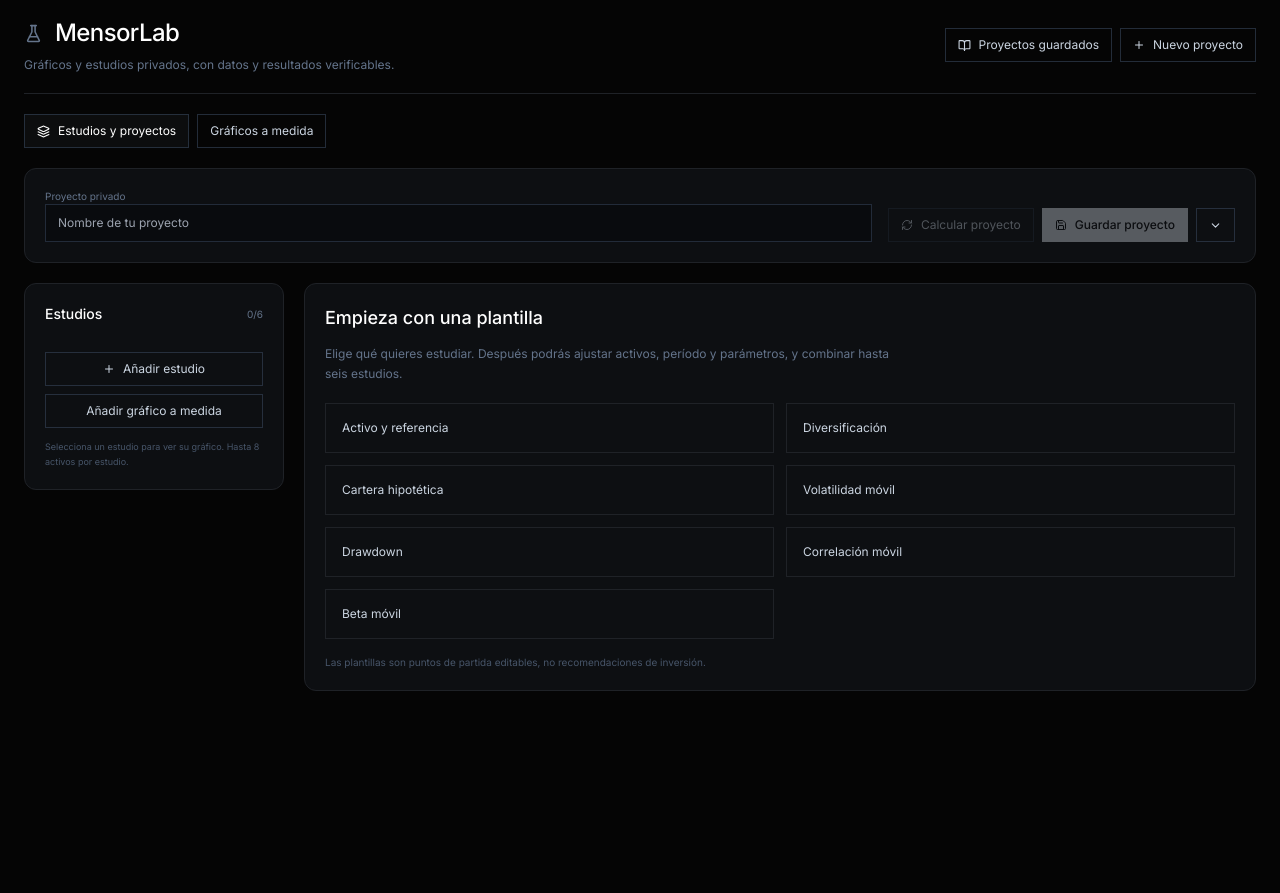
Scenario: keeps hypothetical percentages explicit and refuses invalid totals without normalization
Click the button "Cartera hipotética". click: click(393, 490)
box: [325, 465, 774, 515]
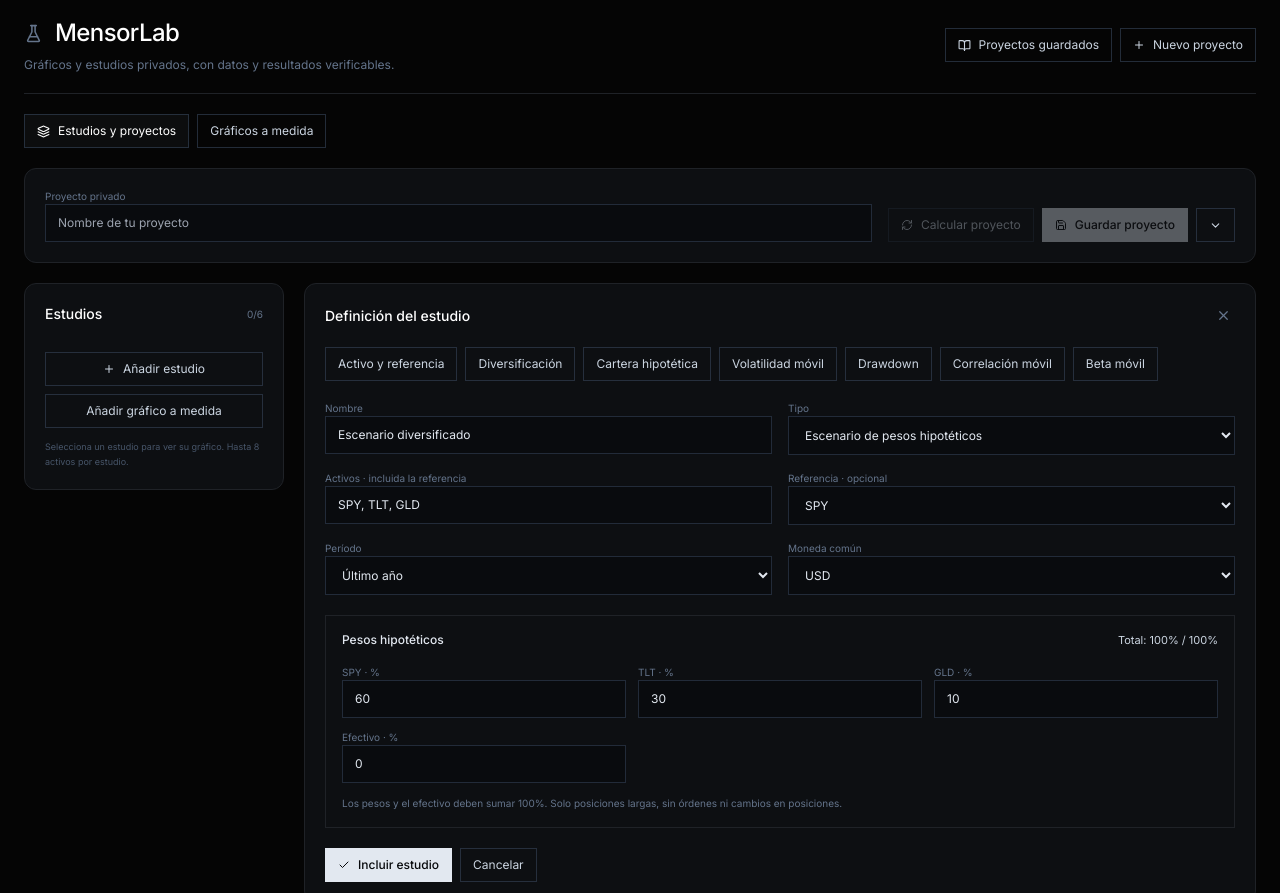
Replace the text in the number field named "Peso de SPY" with "50". click: (484, 698)
box: [342, 680, 626, 718]
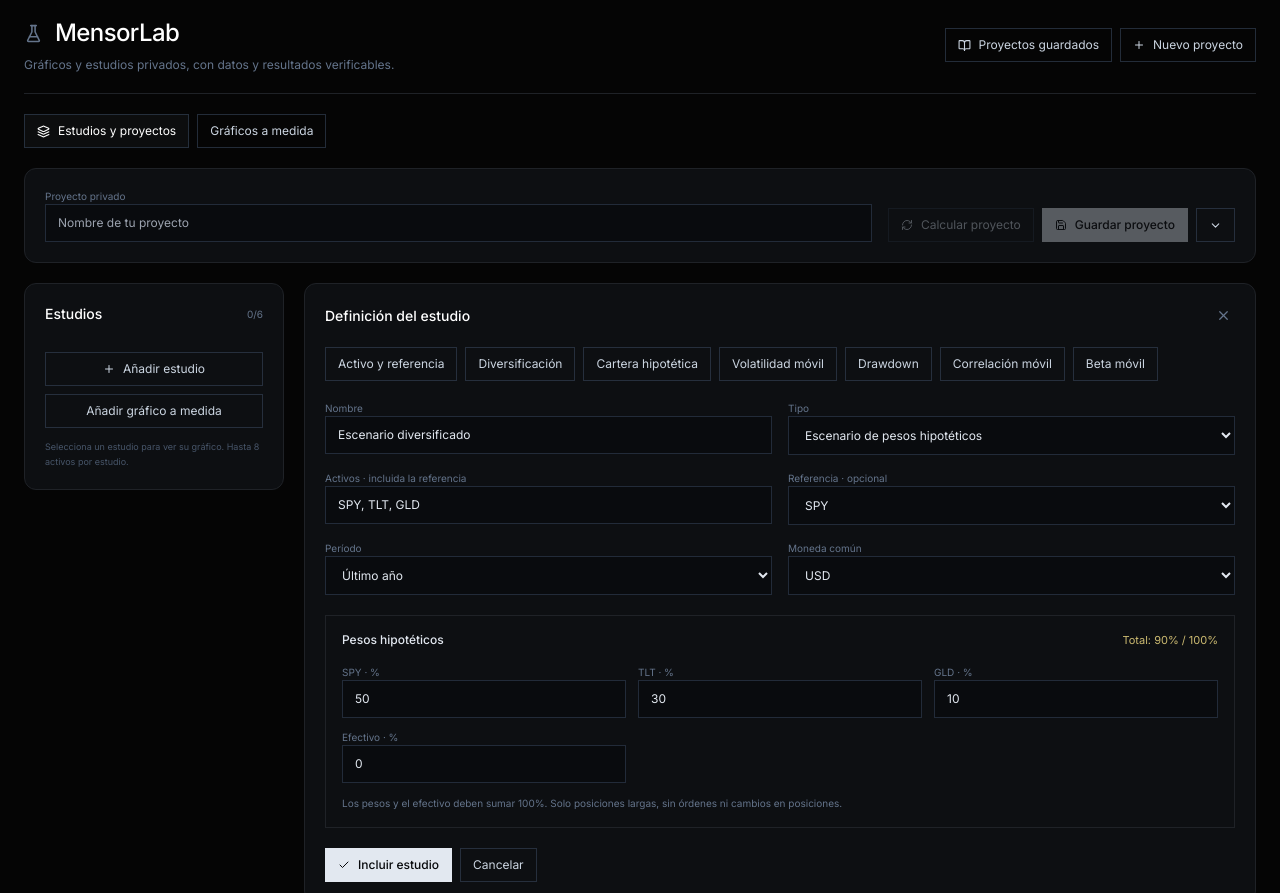
Click the button "Incluir estudio". click: click(388, 865)
box: [325, 848, 452, 882]
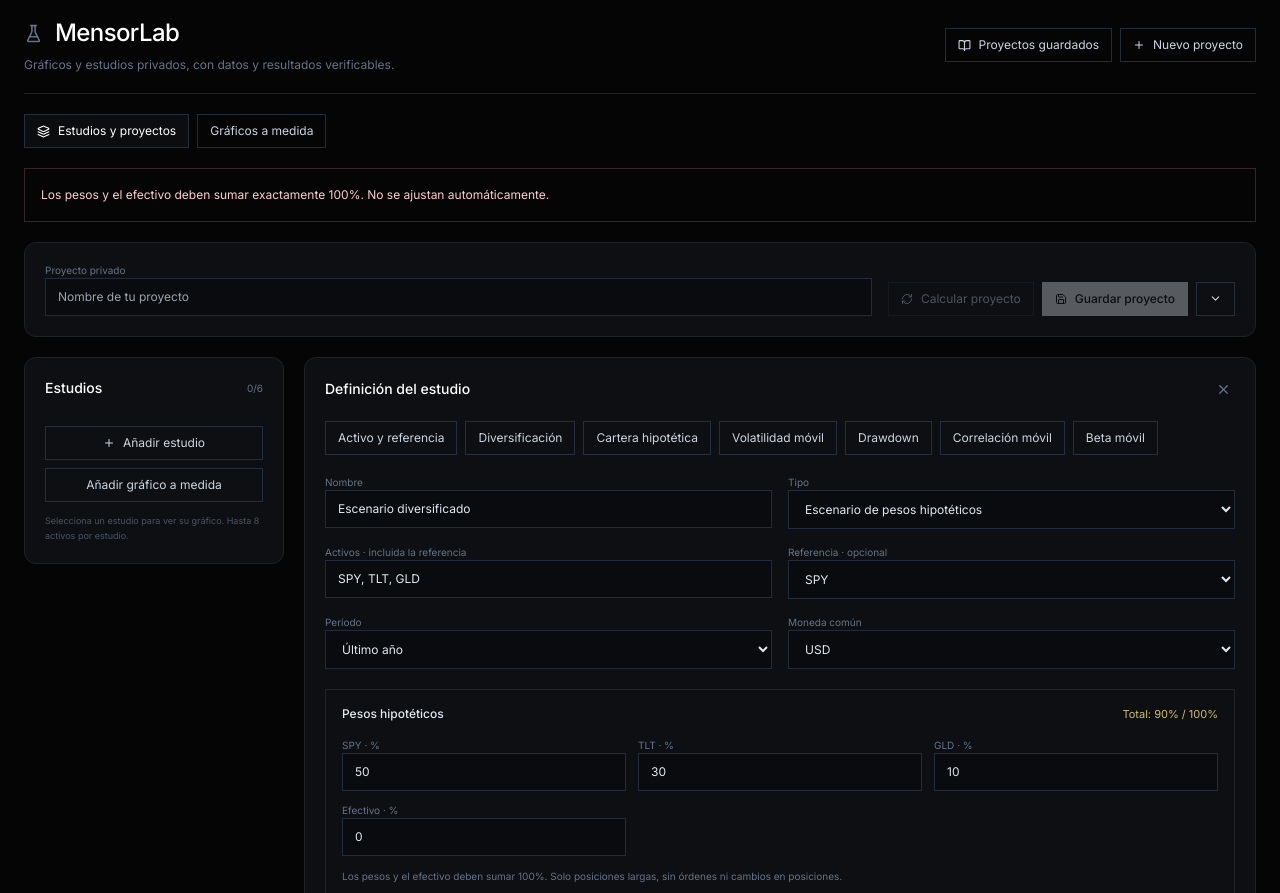
Expected: the message shows "sumar exactamente 100%", [41, 187, 549, 202]
Replace the text in the number field named "Peso de efectivo" with "10". click: (484, 837)
box: [342, 818, 626, 856]
(page scrolled)
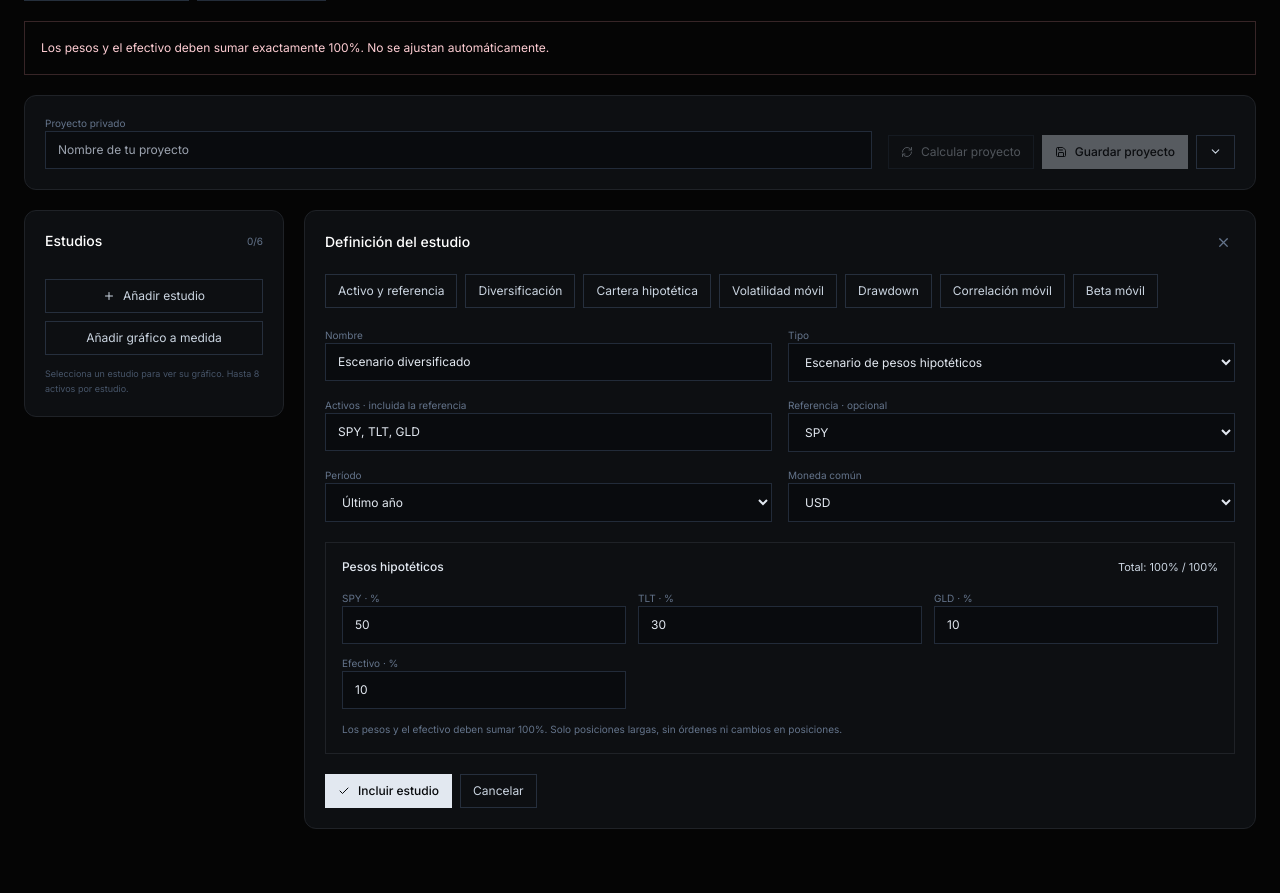
Click the button "Incluir estudio". click: click(388, 791)
box: [325, 774, 452, 808]
(page scrolled)
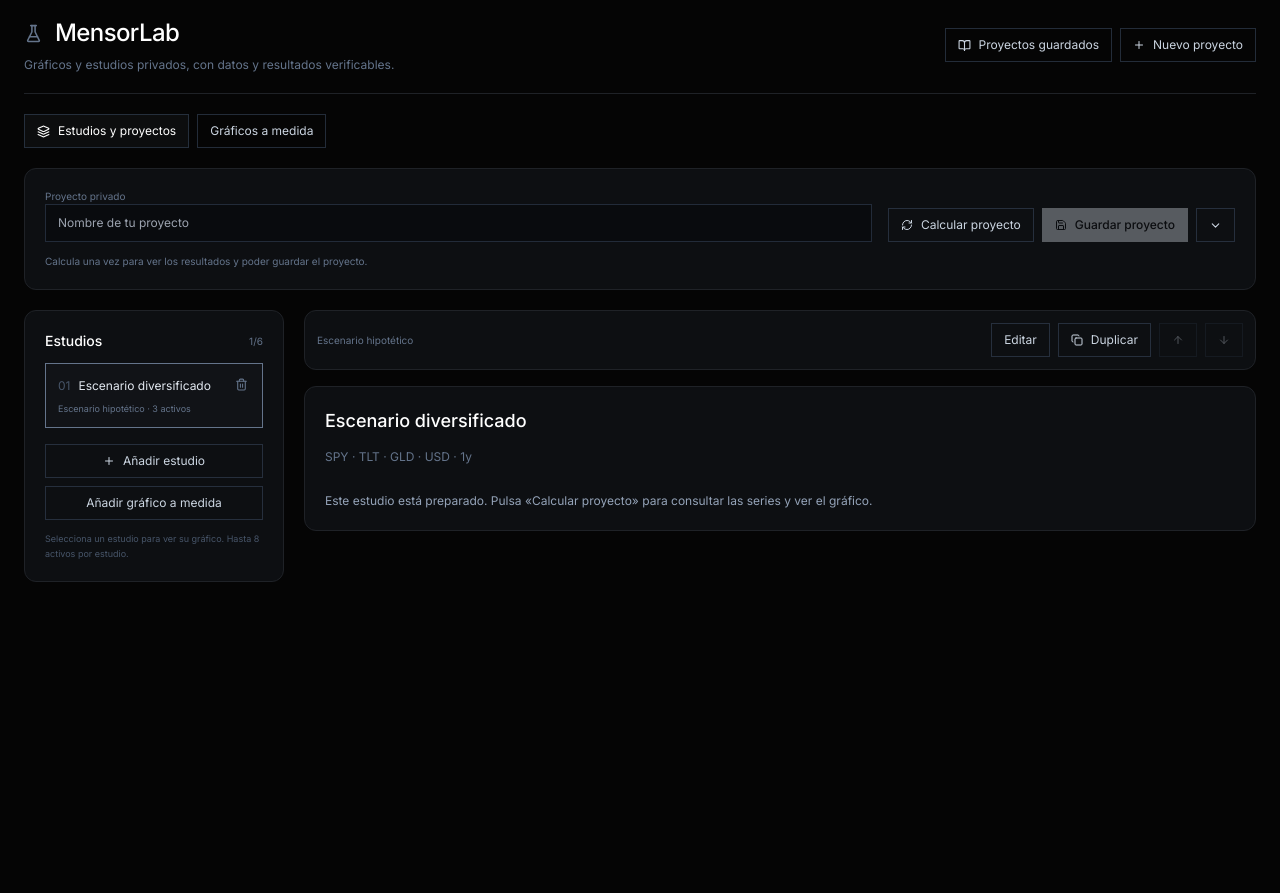
Click the button "Calcular proyecto". click: click(961, 225)
box: [888, 208, 1034, 242]
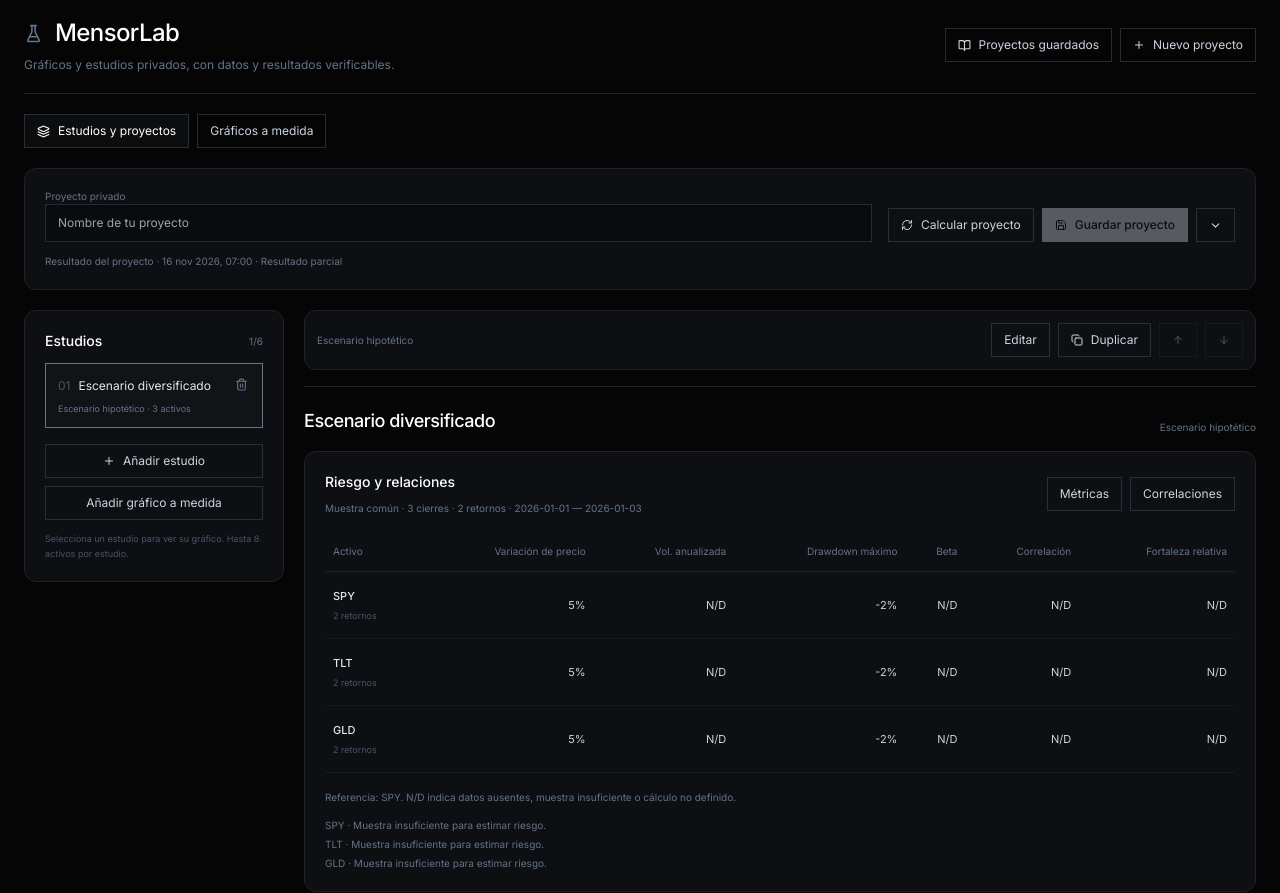
Expected: the text "Resultado del proyecto ·" is shown, [45, 255, 162, 267]
